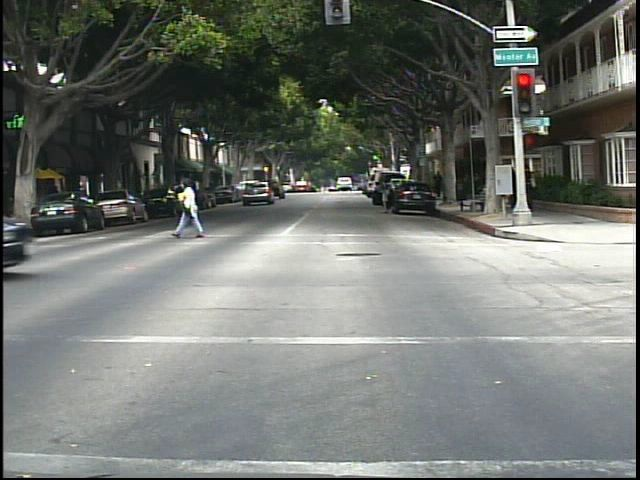person: (172, 176, 209, 244), (373, 171, 399, 216), (433, 167, 448, 199)
